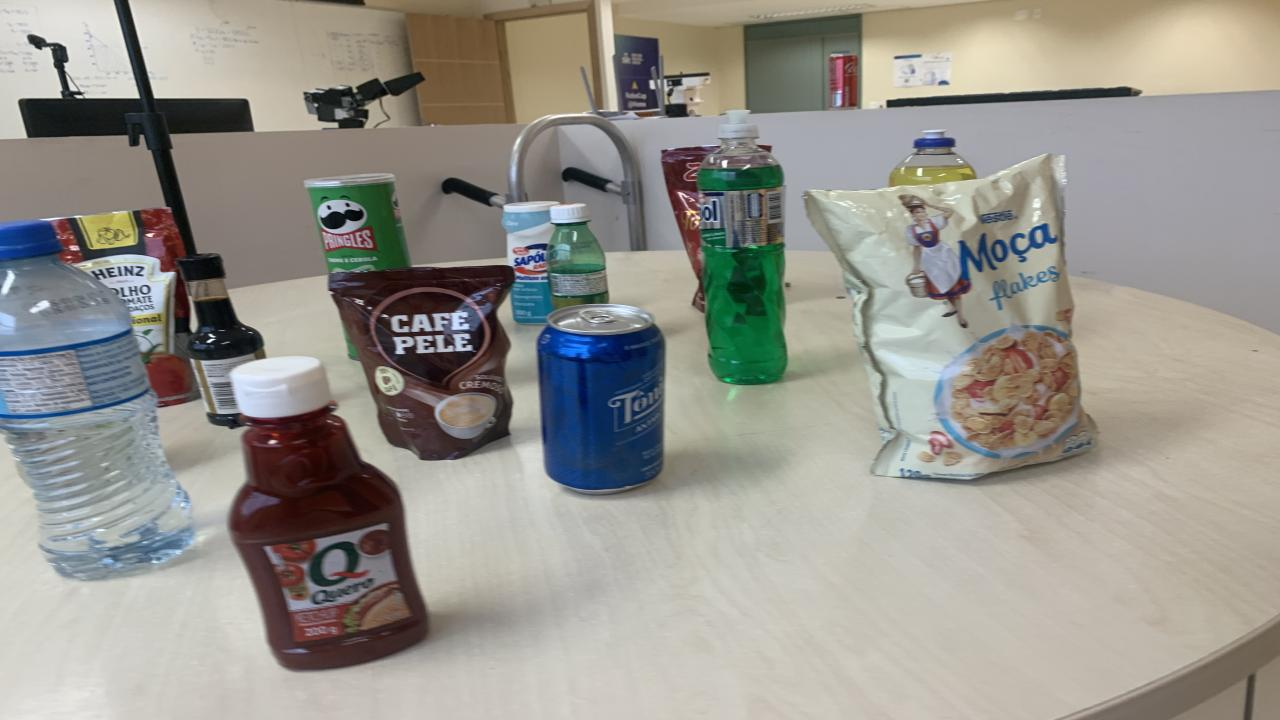Cleaner-Cleanup_Items: (502, 202, 555, 324)
Coffee-Pantry_Items: (328, 264, 515, 459)
Detergent-Cleanup_Items: (698, 112, 788, 384), (890, 129, 975, 188)
English_Sauce-Pantry_Items: (178, 253, 265, 428)
Flakes-Snacks: (805, 154, 1098, 478)
Guarana-Drinks: (545, 204, 610, 309)
Ketchup-Pantry_Items: (228, 356, 428, 669)
Pringles-Snacks: (305, 172, 410, 272)
Tomato_Sauce-Pantry_Items: (48, 208, 200, 405), (660, 146, 718, 311)
Tonic-Drinks: (538, 304, 665, 493)
Water_Bottle-Drinks: (0, 221, 195, 579)
